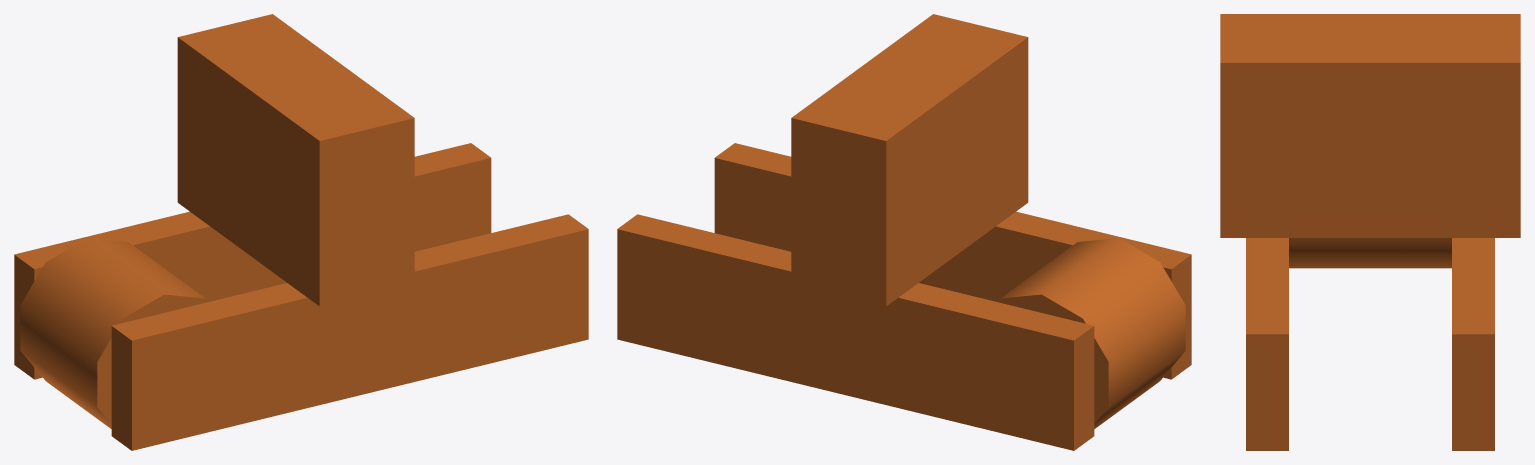
The model's file is stacker_uns_lug.glb.
3 renders of one model, left to right at view 1: azimuth 30°, elevation 25°; view 2: azimuth 150°, elevation 25°; view 3: azimuth 270°, elevation 25°, orthographic. The views are drawn at different scales.
Parts seen in each view (by area): view 1: UnscramblerLug; view 2: UnscramblerLug; view 3: UnscramblerLug.
Boxes of the visible parts, <box> form: UnscramblerLug: <box>14,14,588,450</box>; UnscramblerLug: <box>617,14,1191,450</box>; UnscramblerLug: <box>1220,14,1520,450</box>.
Size of the model in its own units: 0.134 by 0.08 by 0.07.
